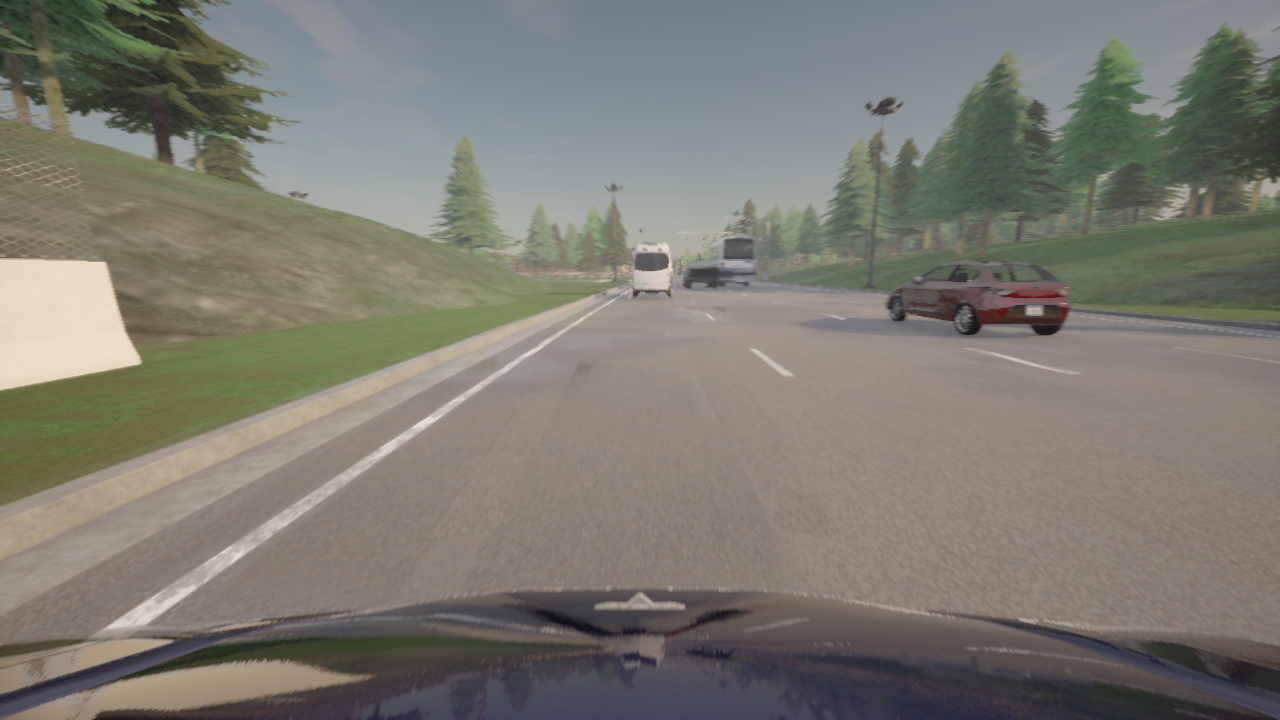cyclist: (0, 588, 1279, 719), (885, 260, 1070, 335), (703, 236, 756, 286), (631, 244, 673, 298), (682, 262, 718, 289)
